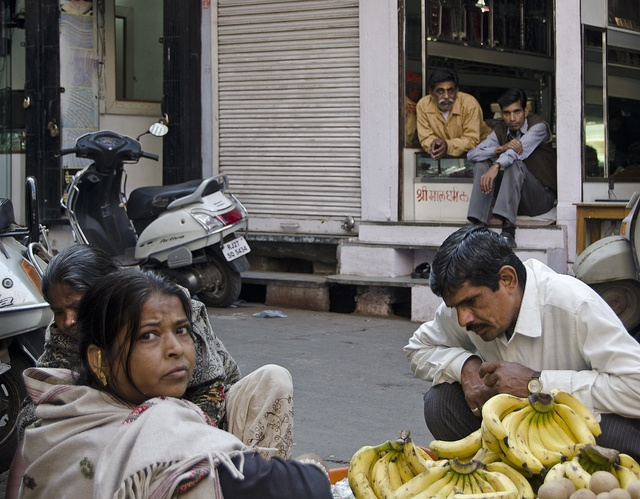non-vehicle: (61, 132, 248, 300), (0, 169, 55, 474), (573, 191, 640, 343)
